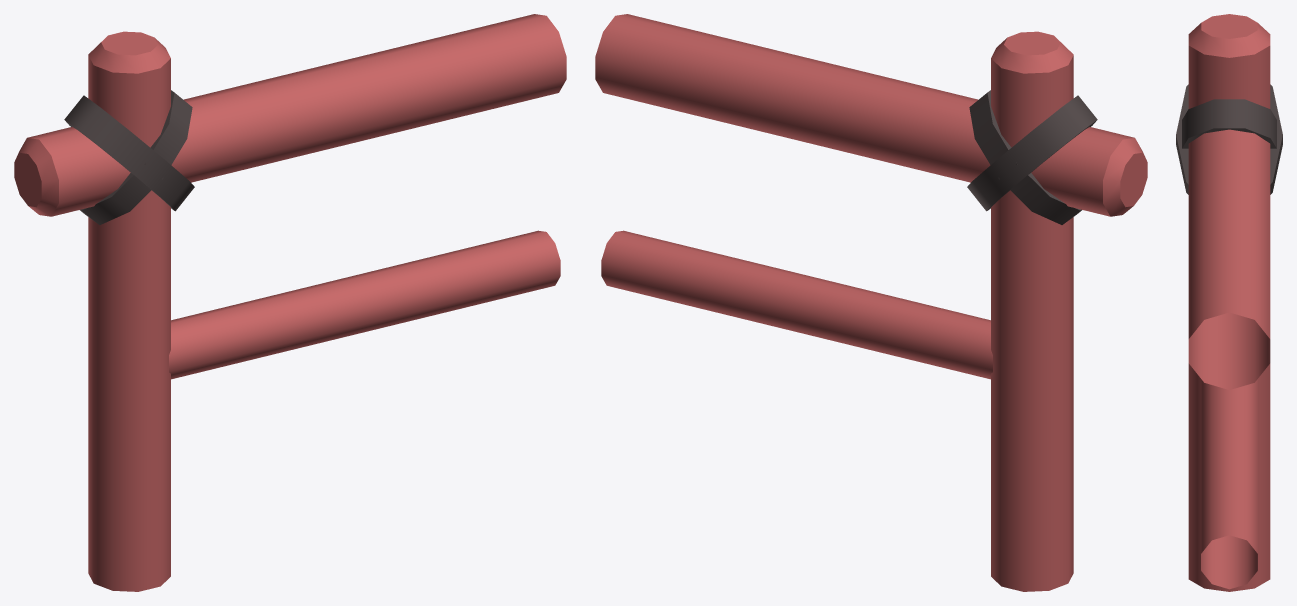
File: SM_barriere.fbx
The picture shows the model from 3 angles, left to right: view 1: azimuth 30°, elevation 25°; view 2: azimuth 150°, elevation 25°; view 3: azimuth 270°, elevation 25°; orthographic projection. The views are drawn at different scales.
Visible parts, largest first — view 1: SM_barriere; view 2: SM_barriere; view 3: SM_barriere.
Boxes of the visible parts, x1,y1,x2,y2 form: SM_barriere: (14, 14, 566, 591); SM_barriere: (595, 14, 1147, 591); SM_barriere: (1176, 14, 1282, 591).
Size of the model in its own units: 94.86 by 92.86 by 16.44.
